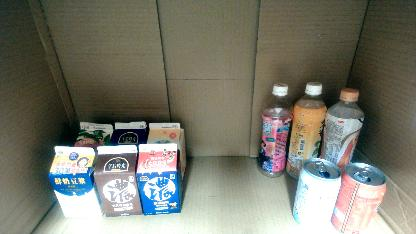Can: (330, 162, 387, 234), (292, 158, 342, 230)
Plastic Bottle: (318, 87, 366, 175), (286, 82, 326, 180), (258, 82, 294, 178)
